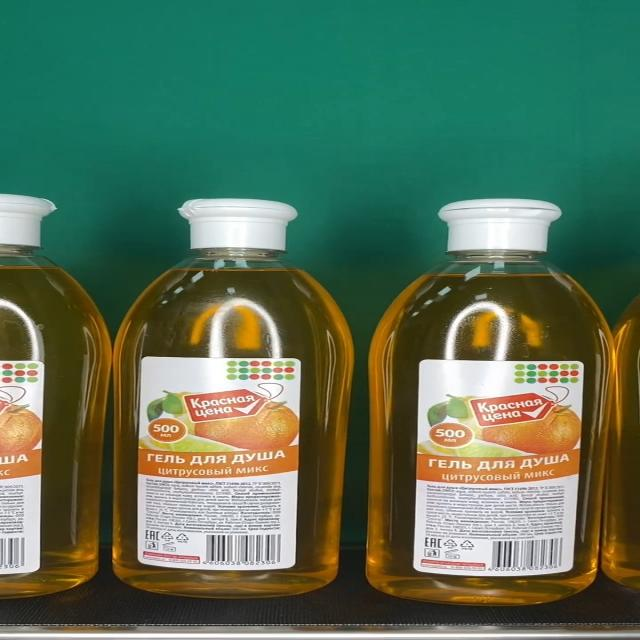Bottle: (368, 201, 616, 606), (113, 198, 354, 598)
Cap: (438, 200, 564, 252), (179, 198, 298, 250)
